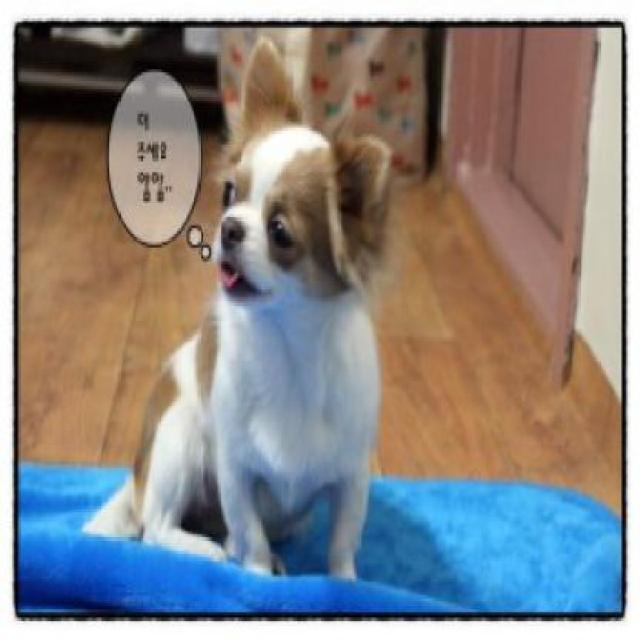Dog: (72, 32, 388, 594)
